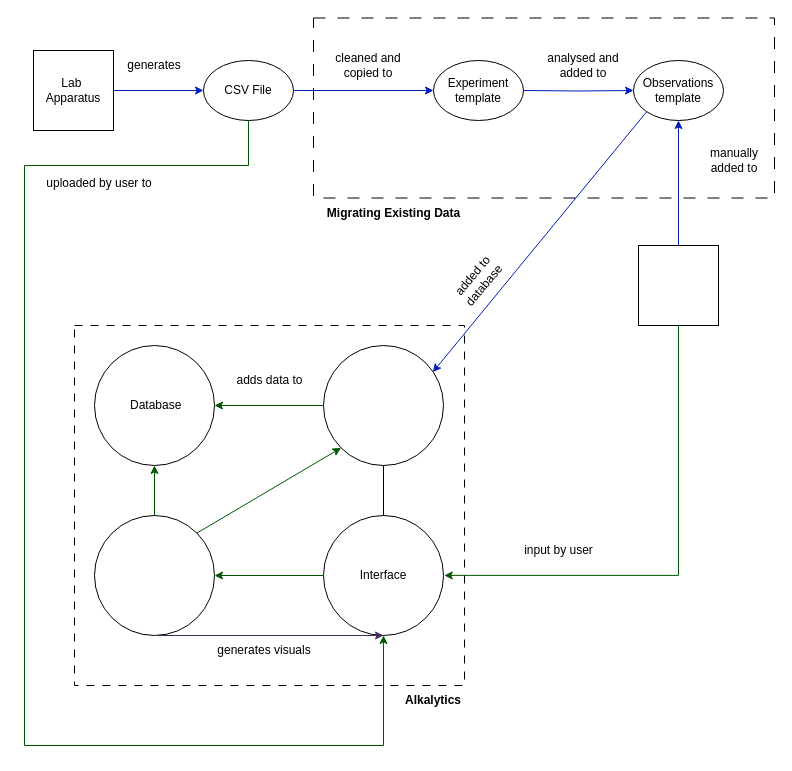
The diagram is 792 pixels wide and 771 high, and some of its shapes have lost their labels. The shapes that lost their labels are listed below. From the top down, each one's centre as x and y in pixels, then its label:
point (678, 285): Additional parameters
point (383, 405): Conversion Script
point (154, 575): Backend
